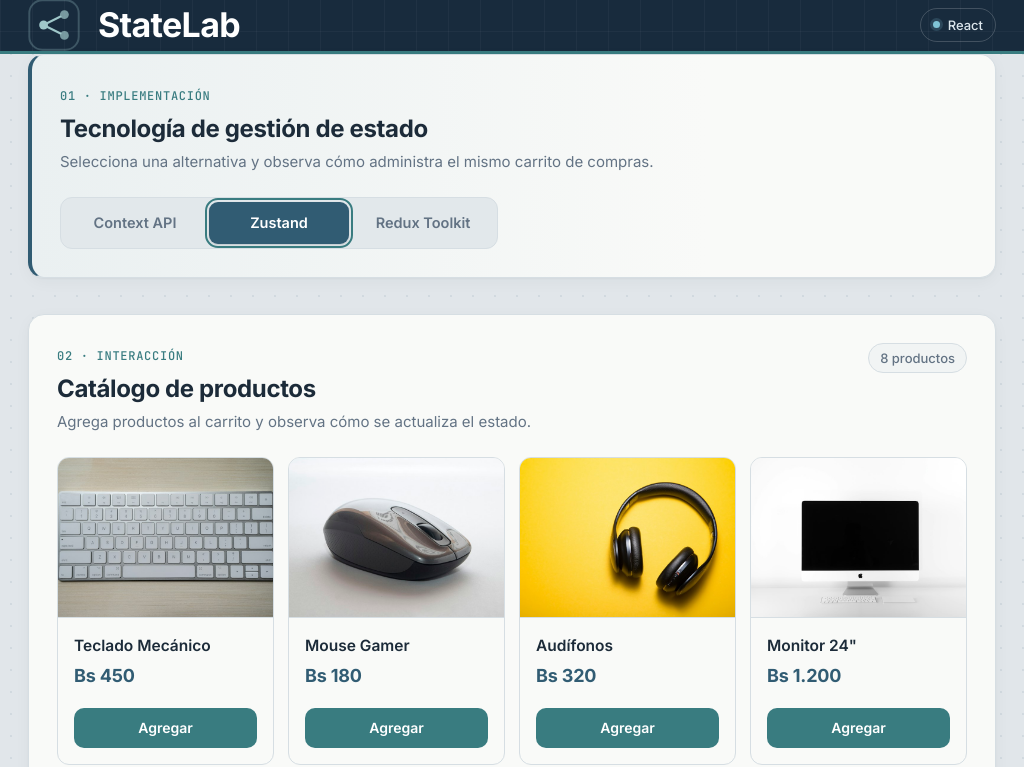
independencia entre tecnologías › conserva el carrito propio al alternar entre modos
The image size is (1024, 767).
Earlier steps of the test are not shown.
Click the button "Agregar" below "Bs 180".
click(396, 728)  # box [305,708,488,748]
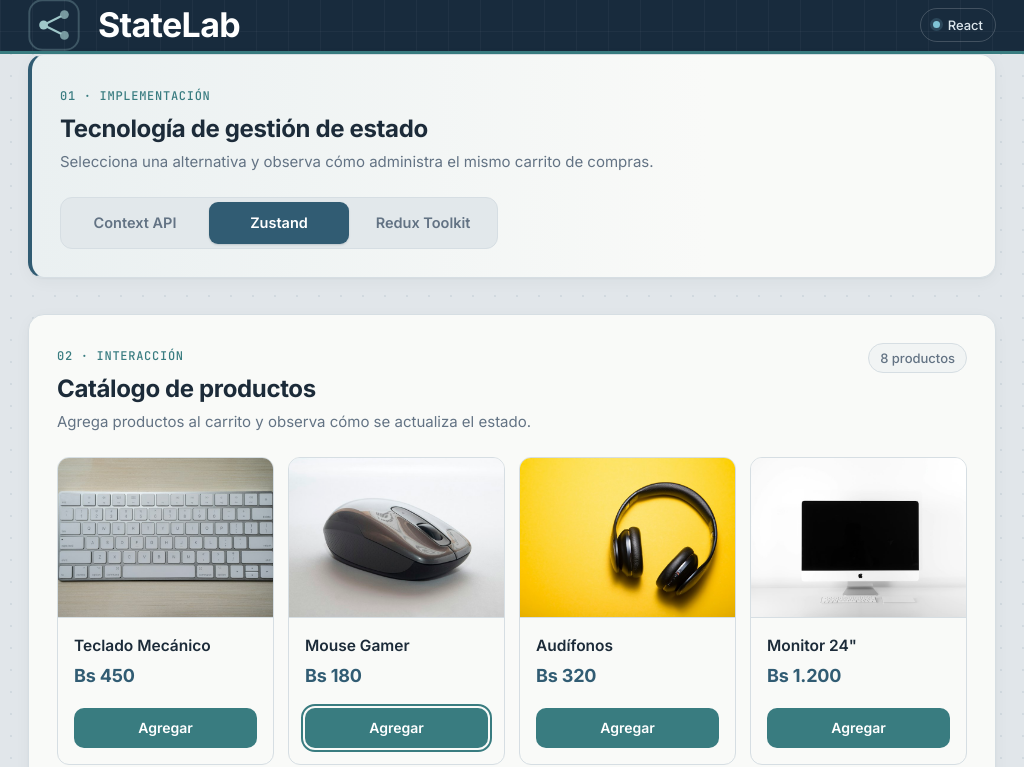
Click the button "Redux Toolkit".
click(423, 223)  # box [353,202,493,244]
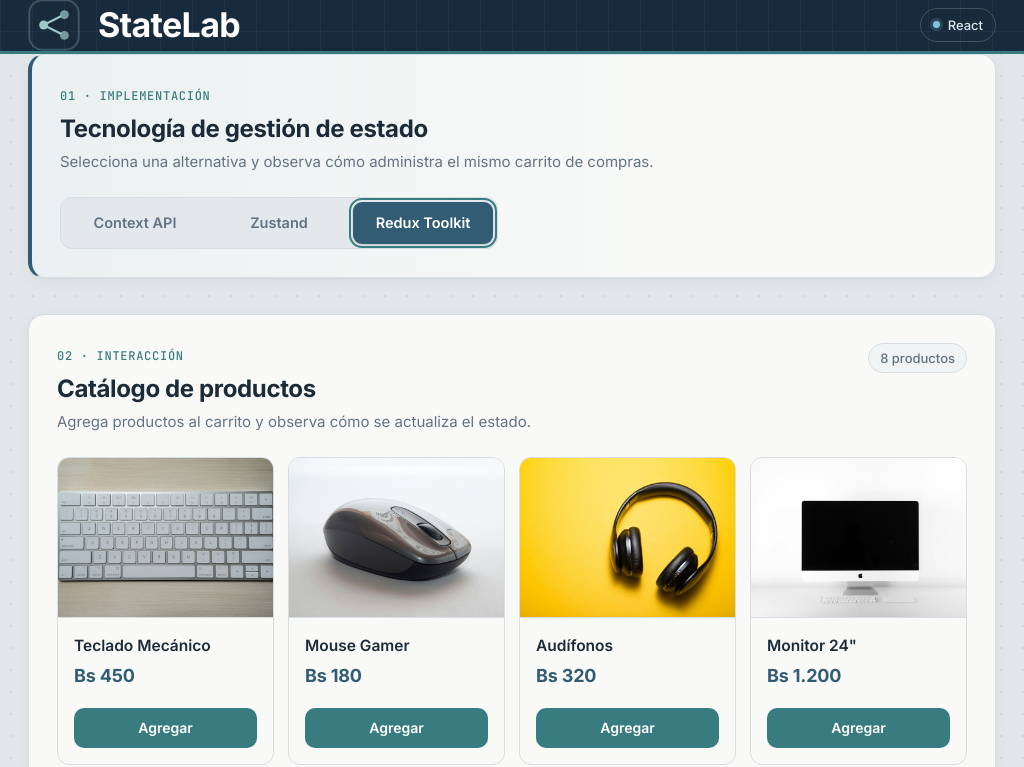
Click the button "Agregar" below "Bs 320".
click(628, 728)  # box [536,708,719,748]
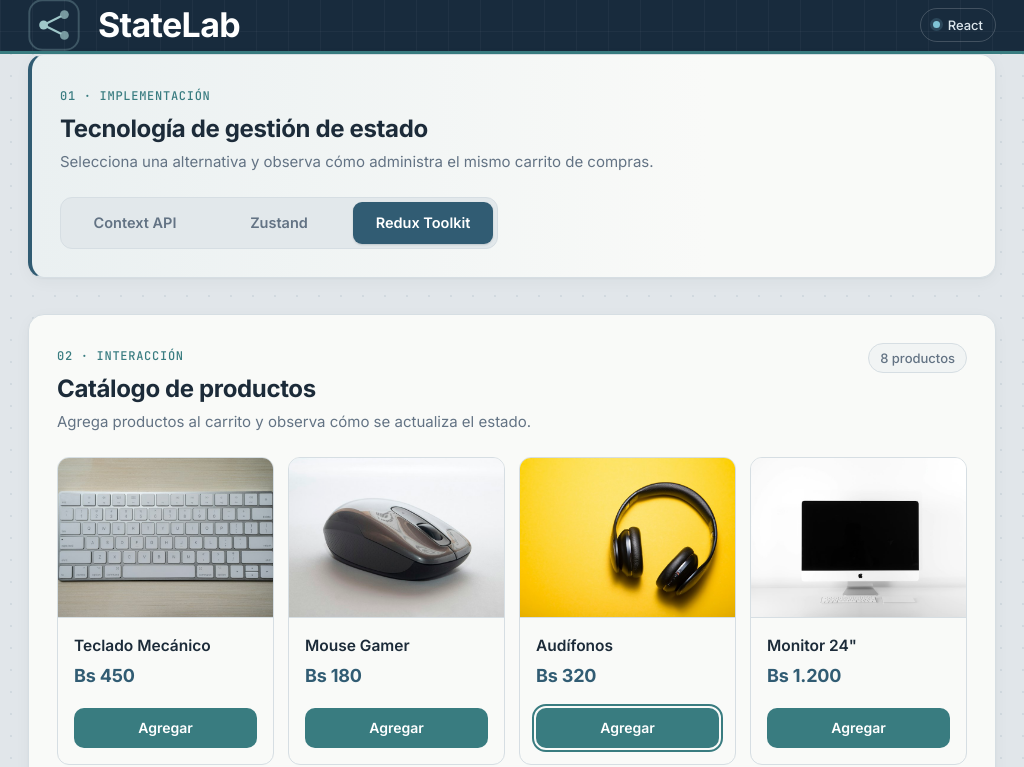
Click the button "Context API".
click(135, 223)  # box [65,202,205,244]
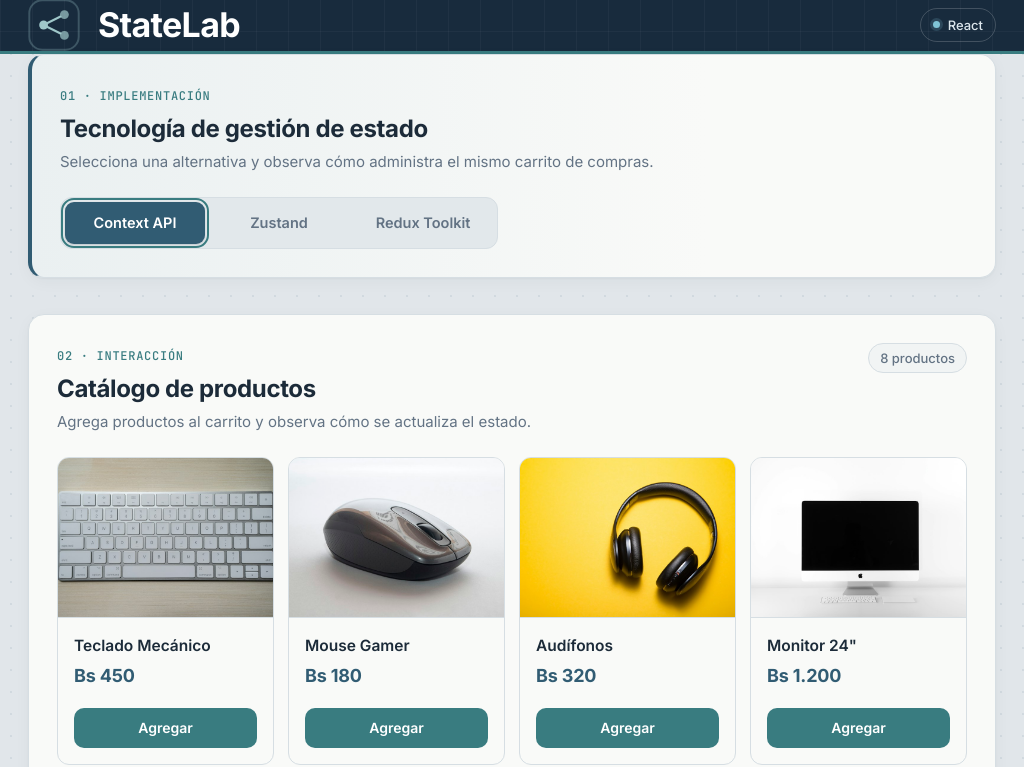
Click the button "Zustand".
click(279, 223)  # box [209,202,349,244]
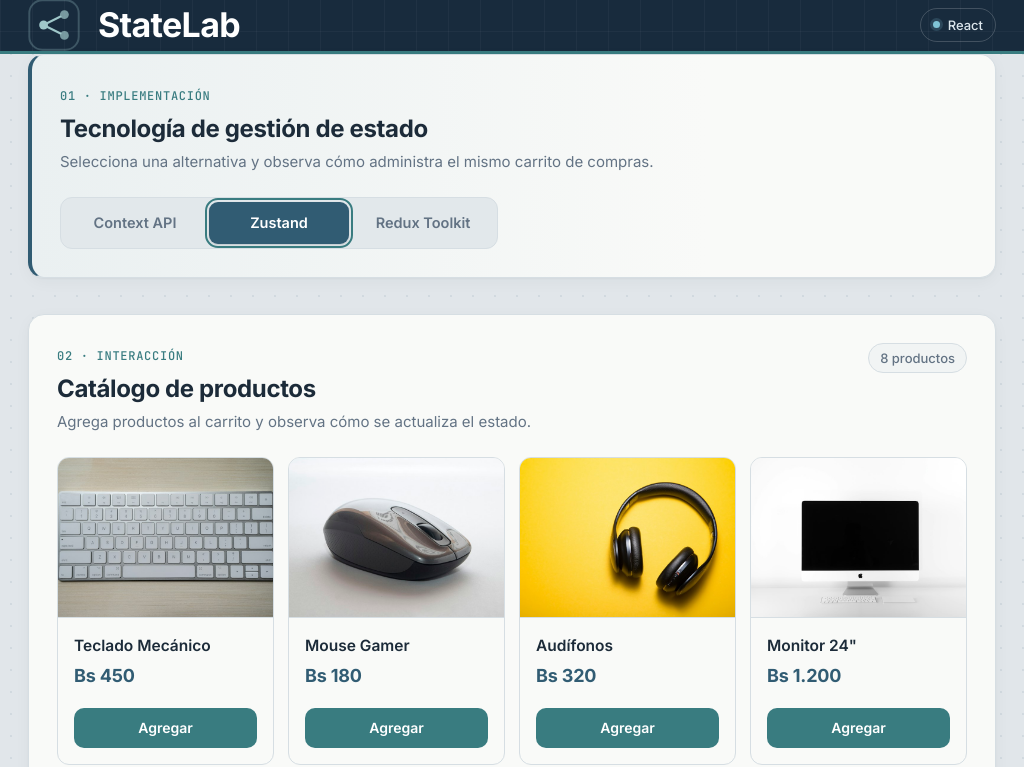
Click the button "Redux Toolkit".
click(423, 223)  # box [353,202,493,244]
(page scrolled)
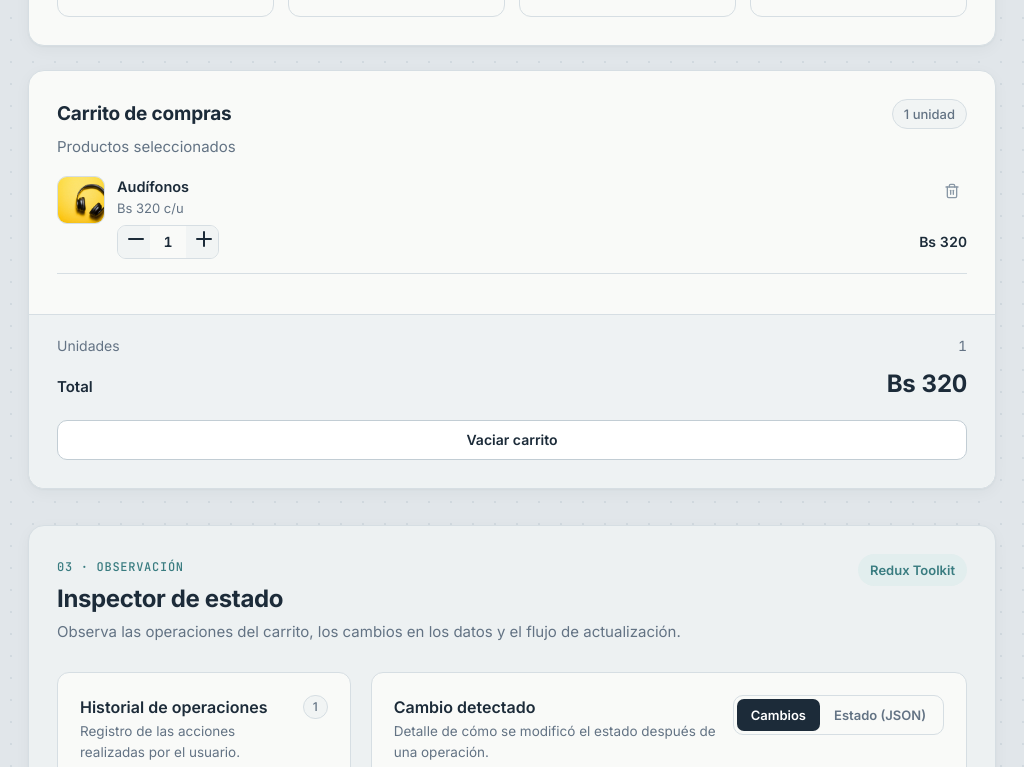
expect the 2nd text "Bs 320" is shown: met, box [887,365,967,402]
